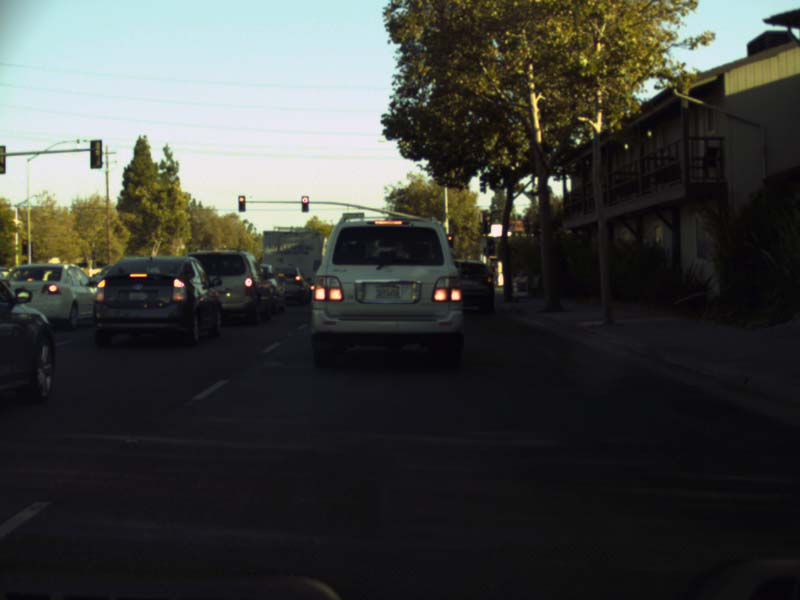Red: (301, 195, 308, 211), (484, 214, 490, 231), (238, 195, 244, 211), (446, 234, 453, 247), (22, 238, 27, 255)
